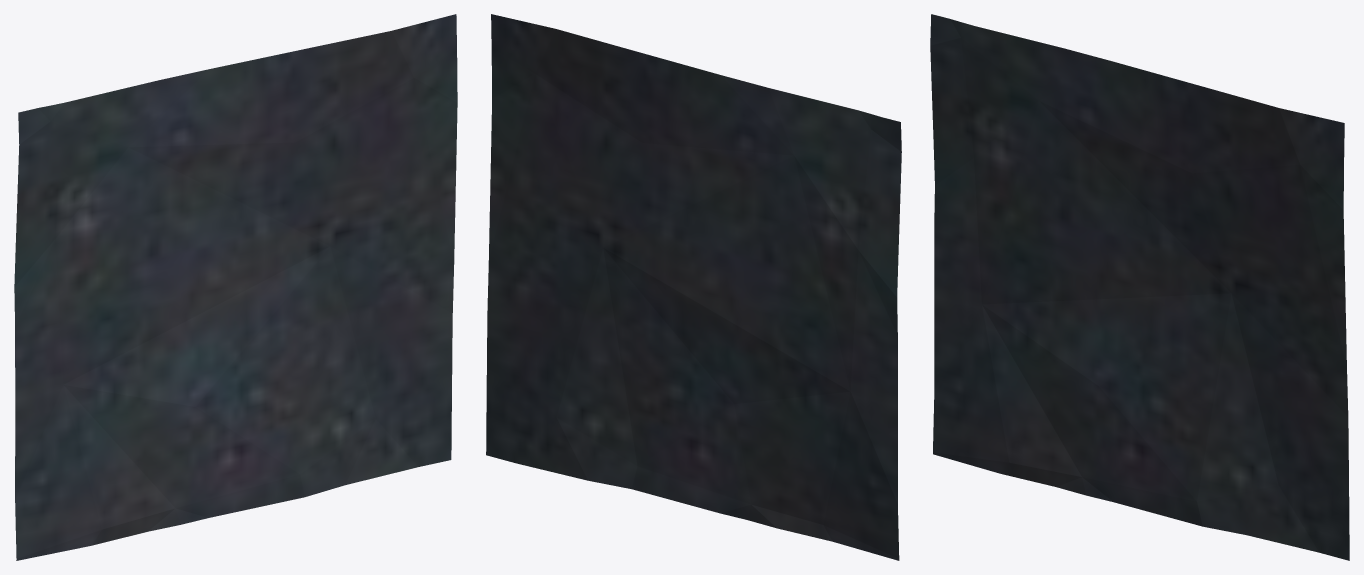
Rendered from Tile_+001_+005_L24_0003123.obj.
The picture shows the model from 3 angles, left to right: view 1: azimuth 30°, elevation 25°; view 2: azimuth 150°, elevation 25°; view 3: azimuth 330°, elevation 25°; orthographic projection. The views are drawn at different scales.
Bounding box in the file's own units: 0.9531 × 0.9531 × 0.0536.
Materials: 1 (1 with a texture image).
